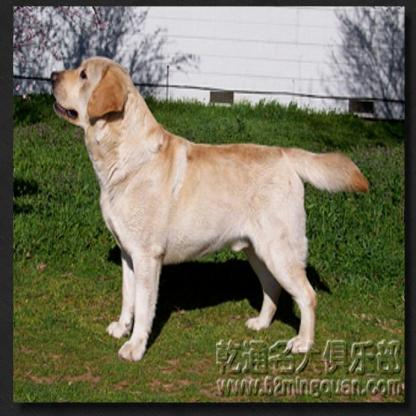dog: (50, 58, 366, 363)
